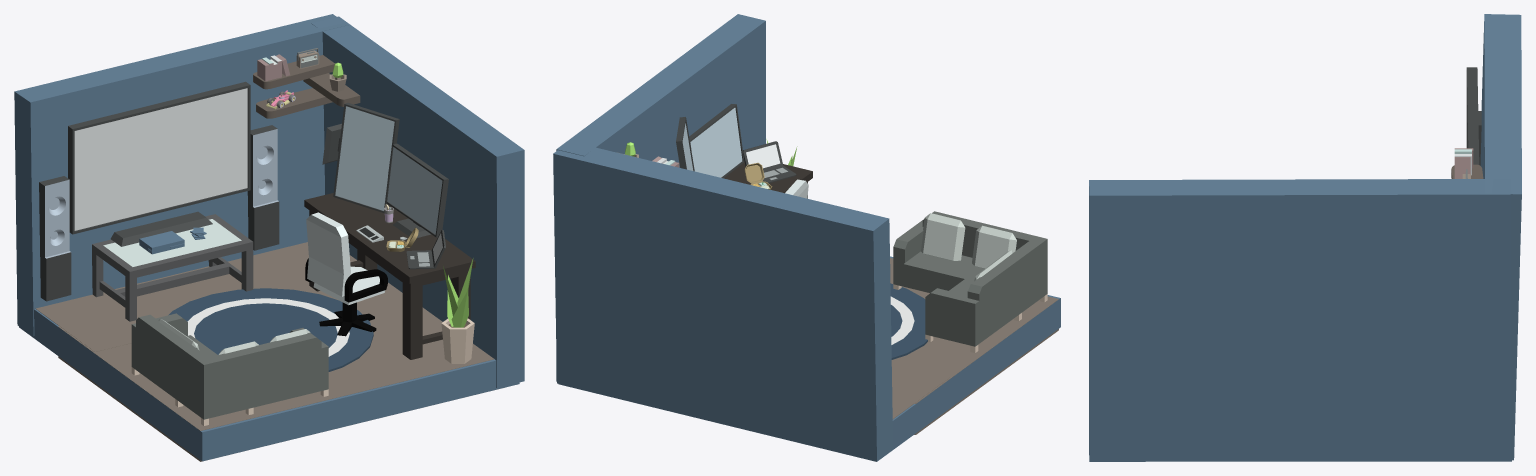
The model's file is Spotifyhouse.gltf.
The picture shows the model from 3 angles, left to right: view 1: azimuth 30°, elevation 25°; view 2: azimuth 150°, elevation 25°; view 3: azimuth 270°, elevation 25°; orthographic projection. The views are drawn at different scales.
Visible parts, largest first — view 1: Cube__2__1, Cube__1_, televisionModern, Cube_1, floorCorner, loungeSofaCorner, rugRound, sideTable, tableGlass, computerScreen__1_, chair, floorFull (+12 smaller); view 2: Cube__2__1, Cube__1_, loungeSofaCorner, Cube_1, floorCorner, computerScreen, rugRound, pillow, floorFull, pillow__1_, laptop, sideTable (+1 smaller); view 3: Cube__1_, Cube__2__1, televisionModern, books__1_.
Part boxes in pixels (x1,y1,x2,y2): Cube__2__1: (14,14,348,336); Cube__1_: (311,16,524,387); televisionModern: (68,81,250,246); Cube_1: (19,309,519,461); floorCorner: (58,242,494,461); loungeSofaCorner: (131,313,328,425); rugRound: (168,288,373,371); sideTable: (304,193,475,359); tableGlass: (92,214,253,321); computerScreen__1_: (322,102,399,213); chair: (305,212,387,305); floorFull: (35,282,178,351); Cube__2__1: (553,141,892,460); Cube__1_: (556,14,765,381); loungeSofaCorner: (893,211,1047,352); Cube_1: (558,256,1060,461); floorCorner: (890,258,1058,434); computerScreen: (689,104,744,178); rugRound: (890,283,927,359); pillow: (921,213,965,260); floorFull: (891,363,949,419); pillow__1_: (972,225,1016,268); laptop: (743,141,796,183); sideTable: (724,161,812,198); Cube__1_: (1089,179,1511,461); Cube__2__1: (1480,14,1521,460); televisionModern: (1466,67,1479,164); books__1_: (1454,148,1473,178).
Bounding box in the file's own units: 1 × 0.7001 × 1.01.
